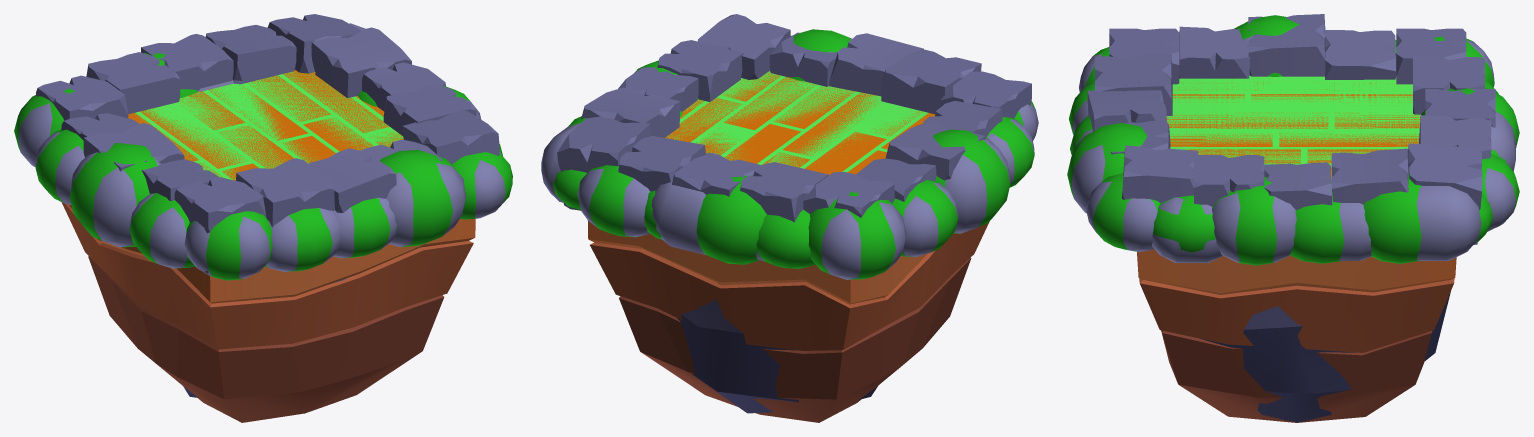
File: Tile_panel.fbx
The picture shows the model from 3 angles, left to right: view 1: azimuth 30°, elevation 25°; view 2: azimuth 150°, elevation 25°; view 3: azimuth 270°, elevation 25°; orthographic projection. The views are drawn at different scales.
Parts seen in each view (by area): view 1: Tile_Grass_Stone, Tile_Stone, Tile_Grass; view 2: Tile_Grass_Stone, Tile_Stone, Tile_Grass; view 3: Tile_Grass_Stone, Tile_Stone, Tile_Grass.
Part boxes in pixels (bbox=[...]): Tile_Grass_Stone: bbox=[18, 23, 505, 422]; Tile_Stone: bbox=[36, 14, 499, 397]; Tile_Grass: bbox=[14, 53, 512, 280]; Tile_Grass_Stone: bbox=[541, 38, 1038, 422]; Tile_Stone: bbox=[557, 14, 1031, 413]; Tile_Grass: bbox=[552, 29, 1035, 279]; Tile_Grass_Stone: bbox=[1071, 36, 1515, 422]; Tile_Stone: bbox=[1087, 14, 1495, 422]; Tile_Grass: bbox=[1067, 15, 1519, 265].
Size of the model in its own units: 14.26 by 10.6 by 13.89.
